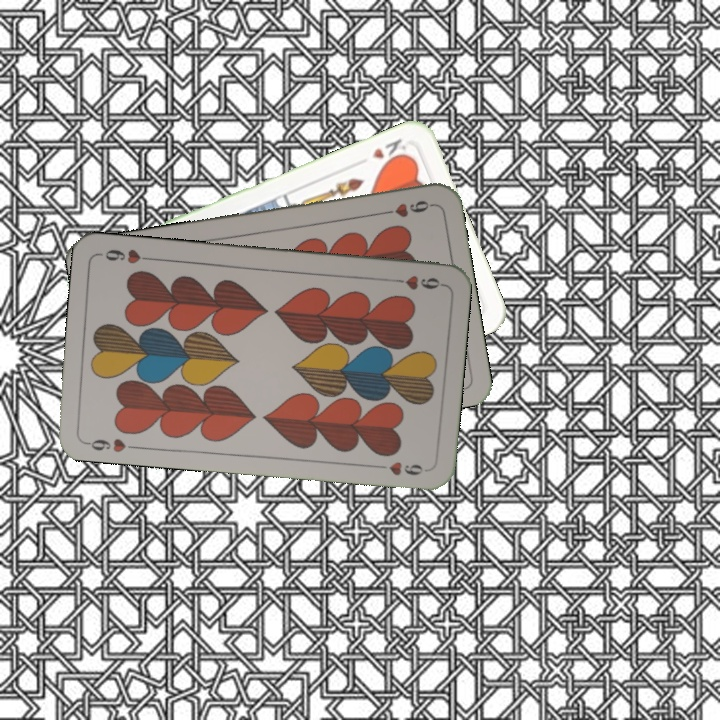H9: (377, 196, 436, 220), (386, 271, 445, 292), (81, 434, 140, 455)
HK: (368, 134, 410, 168)
